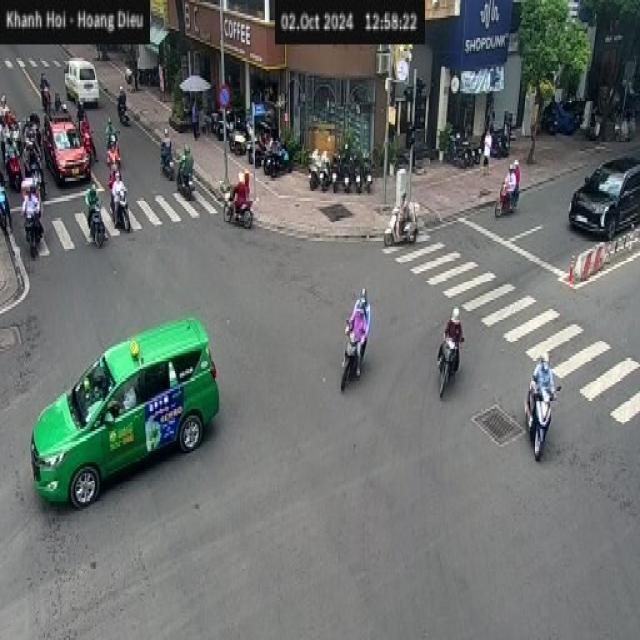car: (30, 315, 220, 509), (568, 153, 638, 240), (41, 122, 92, 186), (64, 51, 103, 115)
motorcycle: (524, 380, 561, 460), (339, 320, 367, 394), (382, 191, 418, 247), (436, 333, 462, 398), (218, 180, 252, 229), (493, 190, 526, 230), (18, 215, 50, 253), (77, 128, 104, 167), (263, 145, 290, 183), (252, 134, 286, 162), (208, 104, 240, 132), (87, 198, 105, 246), (453, 136, 477, 172), (327, 150, 343, 202), (358, 154, 374, 204), (6, 156, 28, 189), (235, 124, 265, 147), (464, 128, 482, 164), (504, 118, 518, 164), (179, 164, 197, 198), (308, 147, 320, 198), (350, 154, 363, 200), (24, 149, 41, 179), (319, 149, 330, 194), (38, 88, 57, 114), (114, 101, 132, 128), (341, 151, 351, 194), (0, 200, 10, 242), (155, 158, 175, 179), (335, 225, 336, 226)
person: (528, 351, 554, 422), (438, 307, 464, 371), (354, 280, 376, 336), (472, 128, 495, 173), (85, 181, 107, 228), (399, 171, 416, 224), (352, 305, 367, 360), (102, 132, 124, 168), (228, 171, 246, 213), (23, 175, 39, 217), (110, 168, 126, 208), (7, 143, 27, 171), (23, 118, 41, 148), (181, 138, 195, 176), (241, 171, 258, 202), (503, 167, 518, 202), (512, 147, 522, 198), (0, 97, 14, 133), (163, 124, 173, 162), (79, 114, 88, 137)
